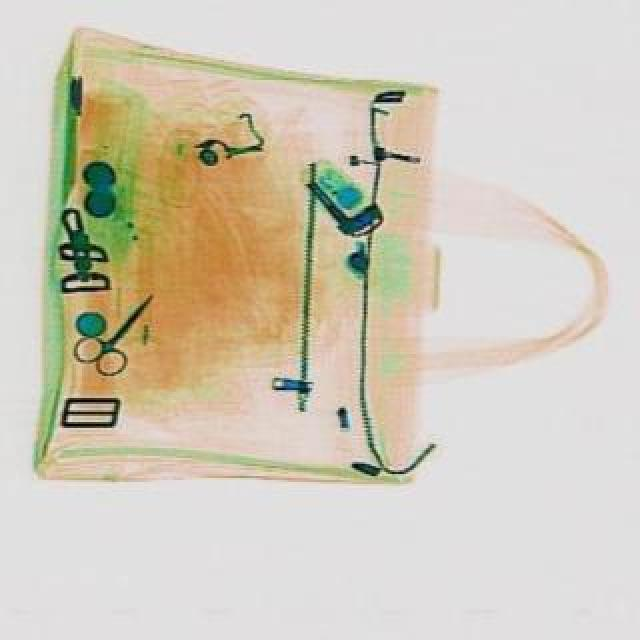pliers: (70, 278, 178, 382)
